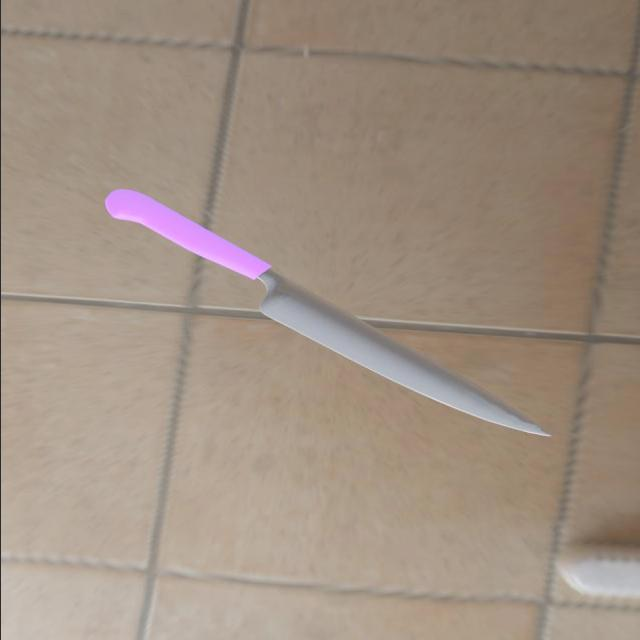knife: (103, 188, 270, 280)
